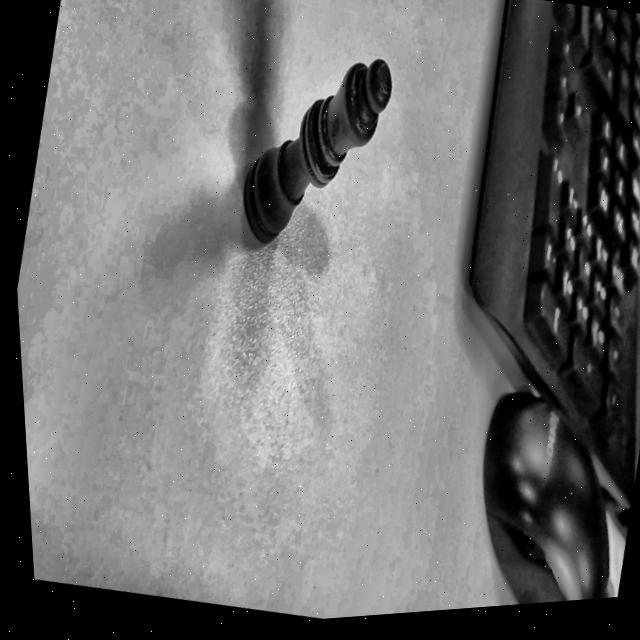black-queen: (216, 28, 413, 279)
